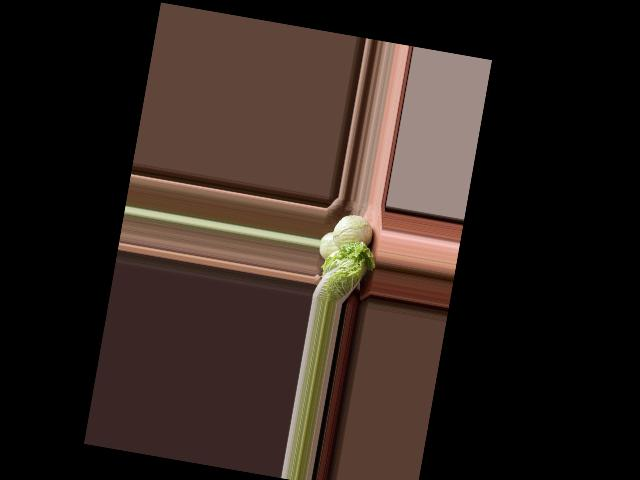lettuce: (314, 235, 379, 307)
